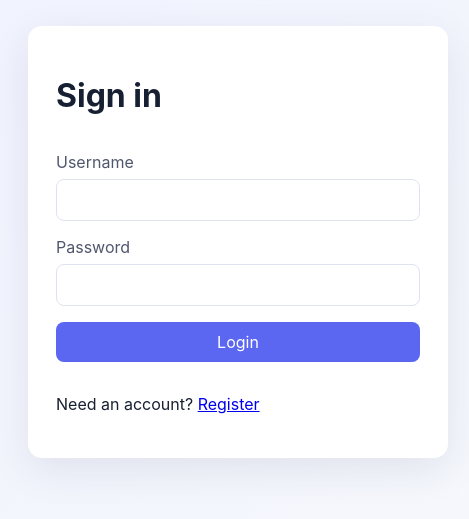
Scenario: Login › renders fields and validates required values
The width and height of the screenshot is (469, 519).
Click the button "Login".
click(238, 342)  # box [56,322,420,362]
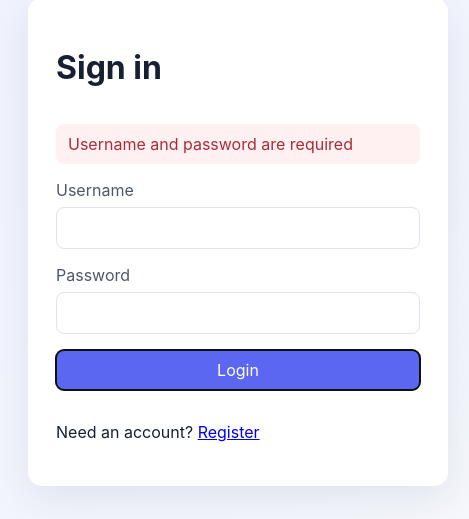
Expected: the message reads "Username and password are required", [68,134,353,154]
